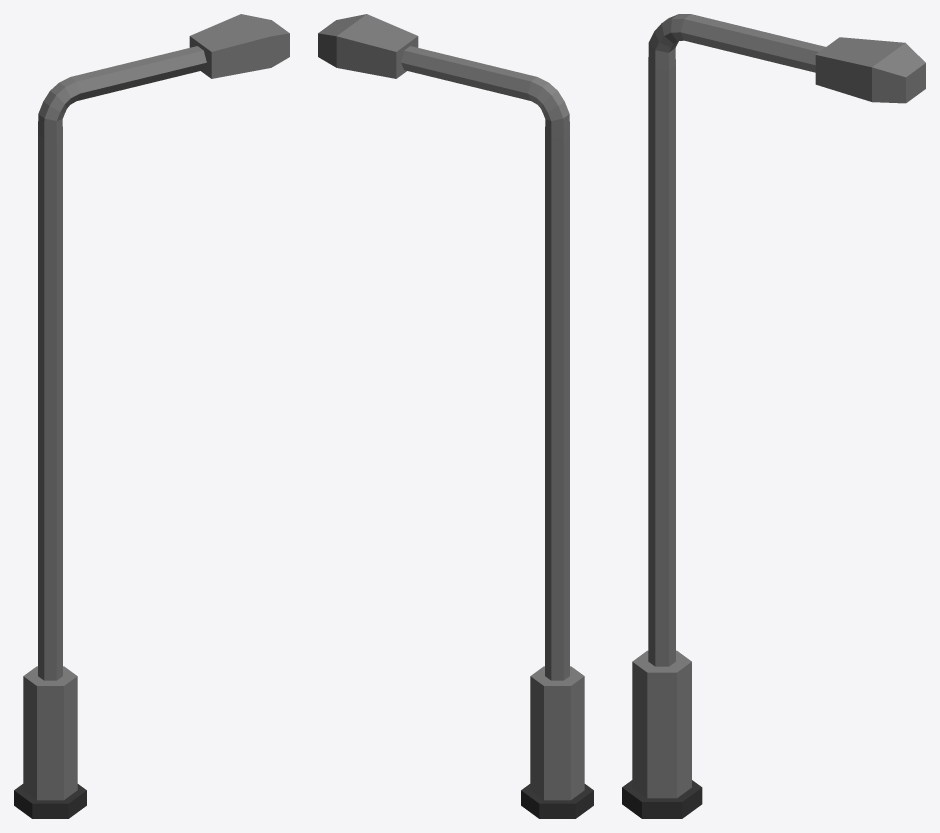
File: Lamp_Street.fbx
3 views of the same model, side by side, from view 1: azimuth 30°, elevation 25°; view 2: azimuth 150°, elevation 25°; view 3: azimuth 330°, elevation 25° (orthographic). The views are drawn at different scales.
Visible parts, largest first — view 1: Cylinder; view 2: Cylinder; view 3: Cylinder.
Boxes of the visible parts, box(x1,y1,x2,y2) form: Cylinder: box(14, 14, 289, 818); Cylinder: box(318, 14, 593, 818); Cylinder: box(622, 14, 925, 818).
Bounding box in the file's own units: 817 × 2211 × 200.
